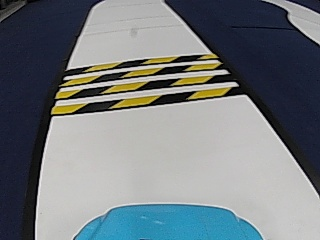bump: (72, 56, 209, 115)
